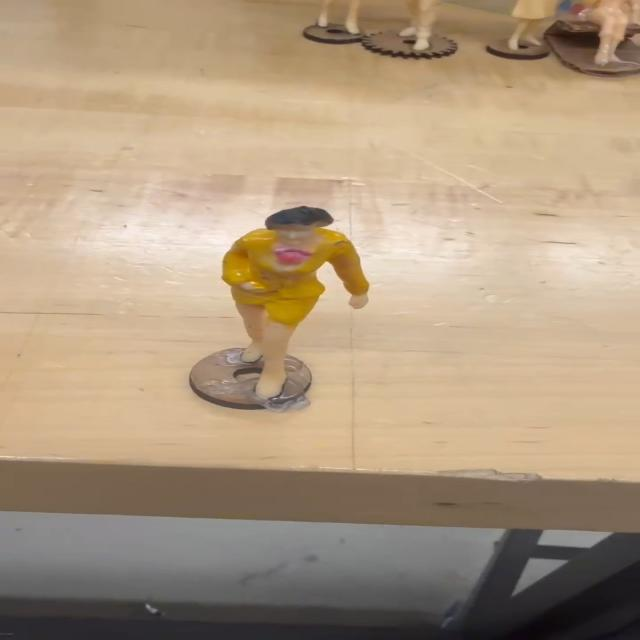Authorized: (204, 202, 377, 409)
